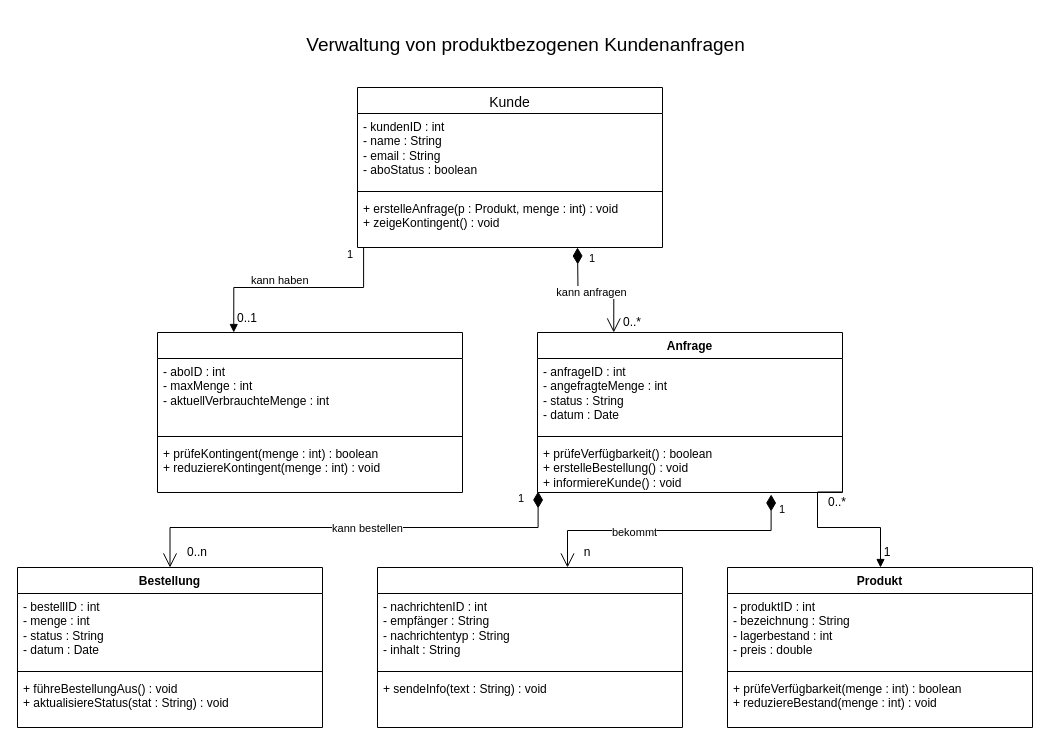
Image size: 1050x747. Some labels were removed from this diagram. The box of each missing label's shape, as (x1, y1, x2, y2) in pixels:
Abo / Kontingent: (156, 332, 462, 492)
Benachrichtigung: (376, 566, 682, 728)
